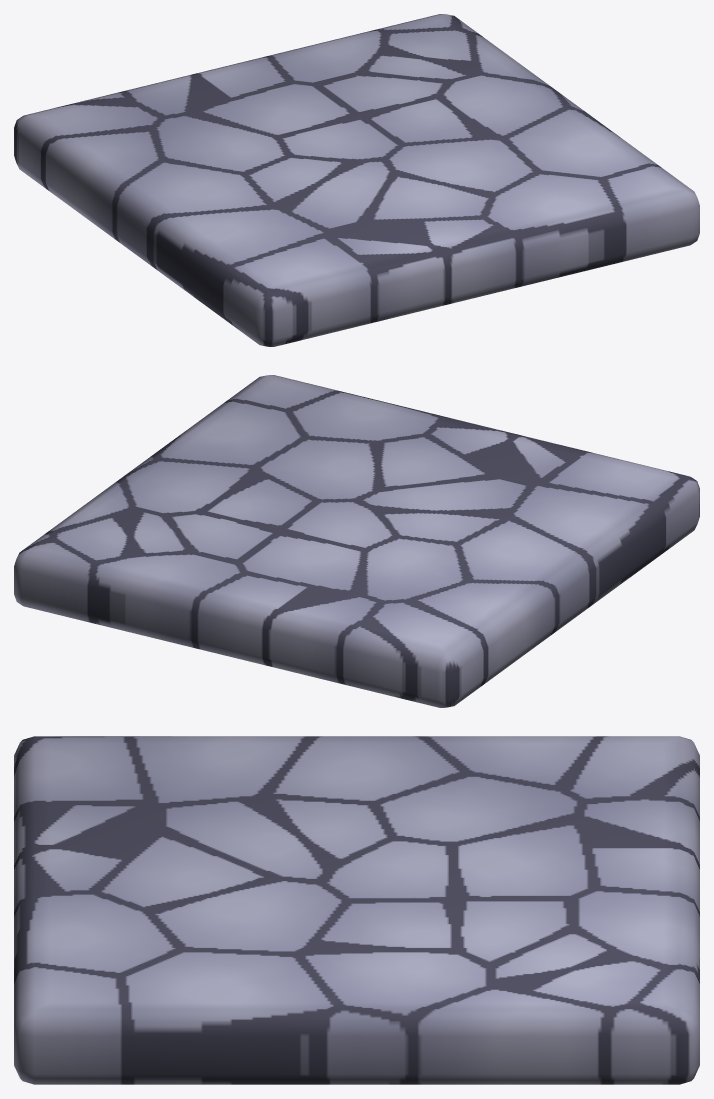
File: floor.glb
3 views of the same model, one above another, from view 1: azimuth 30°, elevation 25°; view 2: azimuth 150°, elevation 25°; view 3: azimuth 270°, elevation 25° (orthographic). The views are drawn at different scales.
Visible parts, largest first — view 1: floor; view 2: floor; view 3: floor.
Part boxes in pixels (x1,y1,x2,y2): floor: (14,14,699,346); floor: (14,375,699,707); floor: (14,736,699,1084).
Size of the model in its own units: 1 by 0.12 by 1.
Materials: 1 (1 with a texture image).
